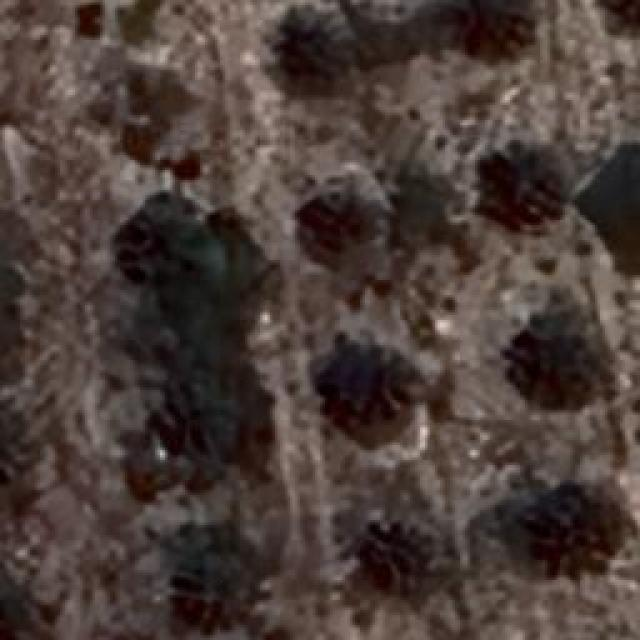PalmTree: (60, 68, 201, 579), (14, 94, 60, 445), (251, 0, 368, 82), (141, 379, 244, 469), (322, 341, 412, 429), (470, 142, 568, 222), (530, 481, 618, 569), (508, 322, 598, 408), (122, 192, 198, 262), (362, 521, 438, 581), (308, 195, 378, 260), (600, 150, 640, 251), (460, 0, 525, 45), (0, 577, 27, 640), (596, 0, 640, 37), (0, 578, 22, 640)
